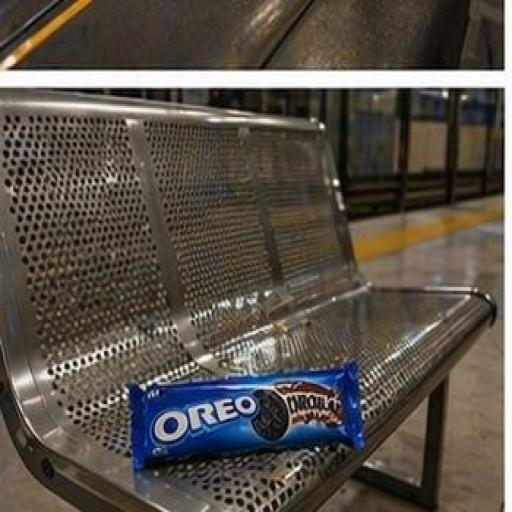oreo: (91, 328, 398, 500)
